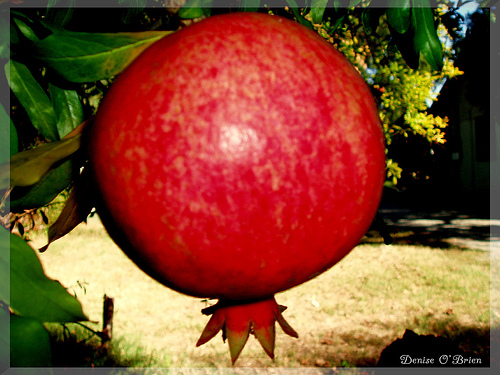pomogranate: (90, 11, 386, 367)
